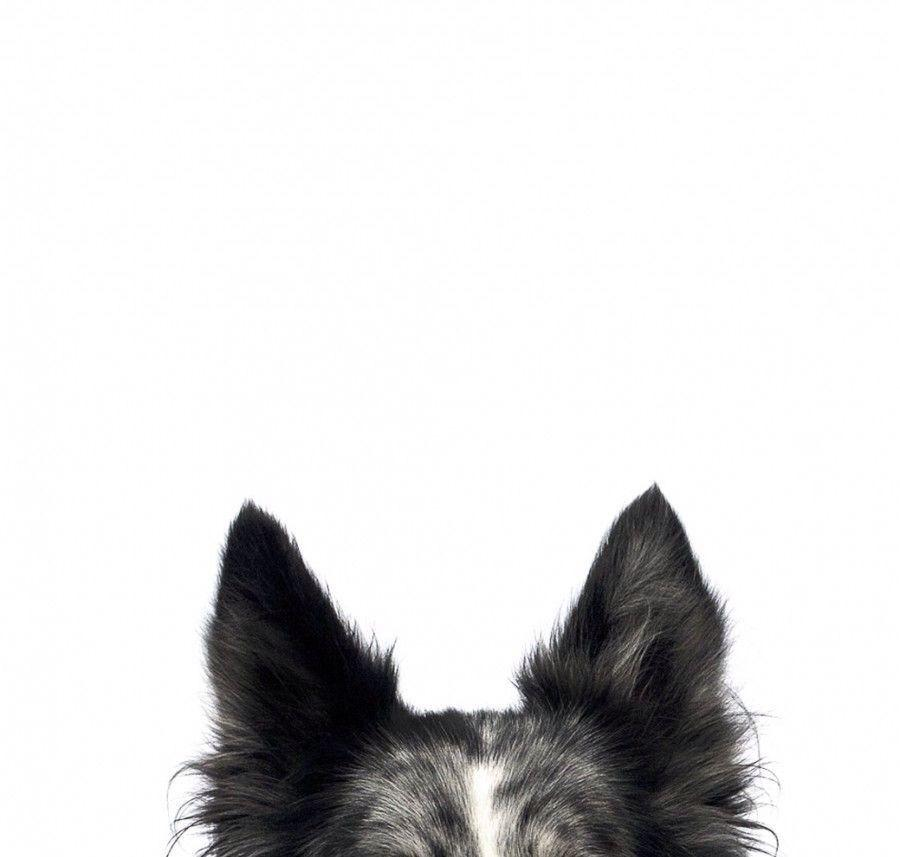adult_dog: (167, 482, 780, 857)
